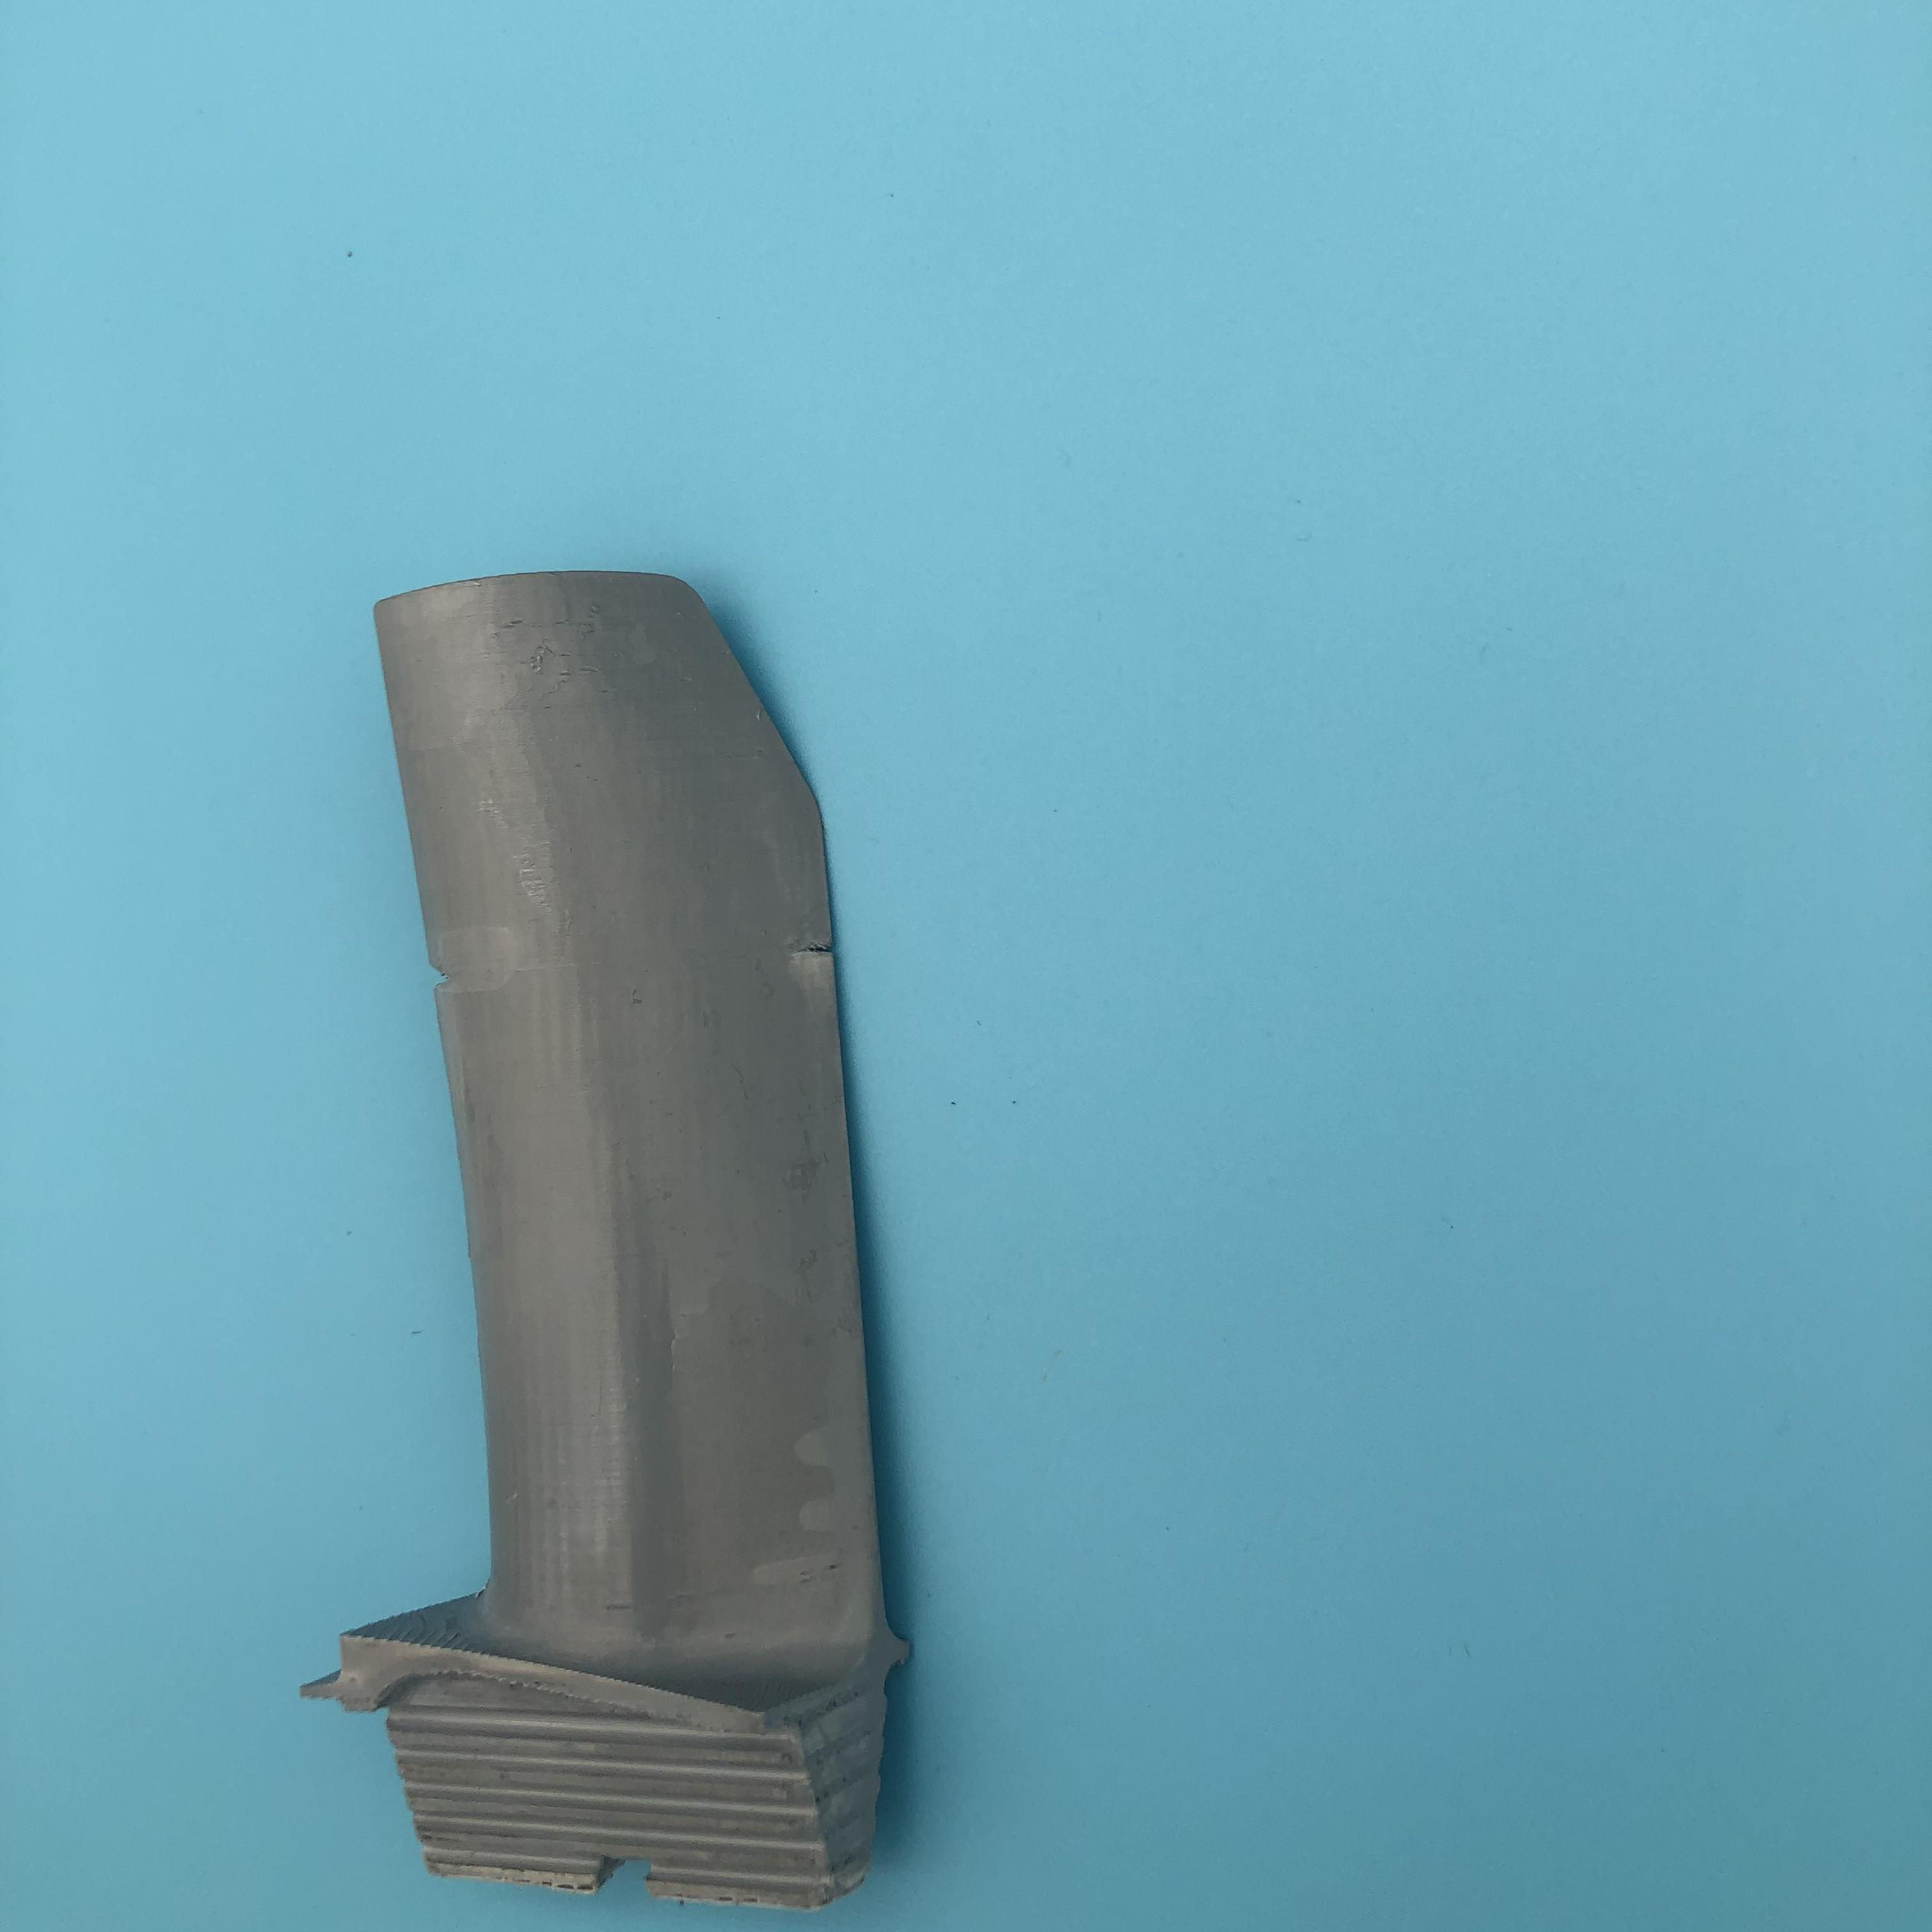groove: (426, 957, 478, 998), (801, 925, 839, 966)
